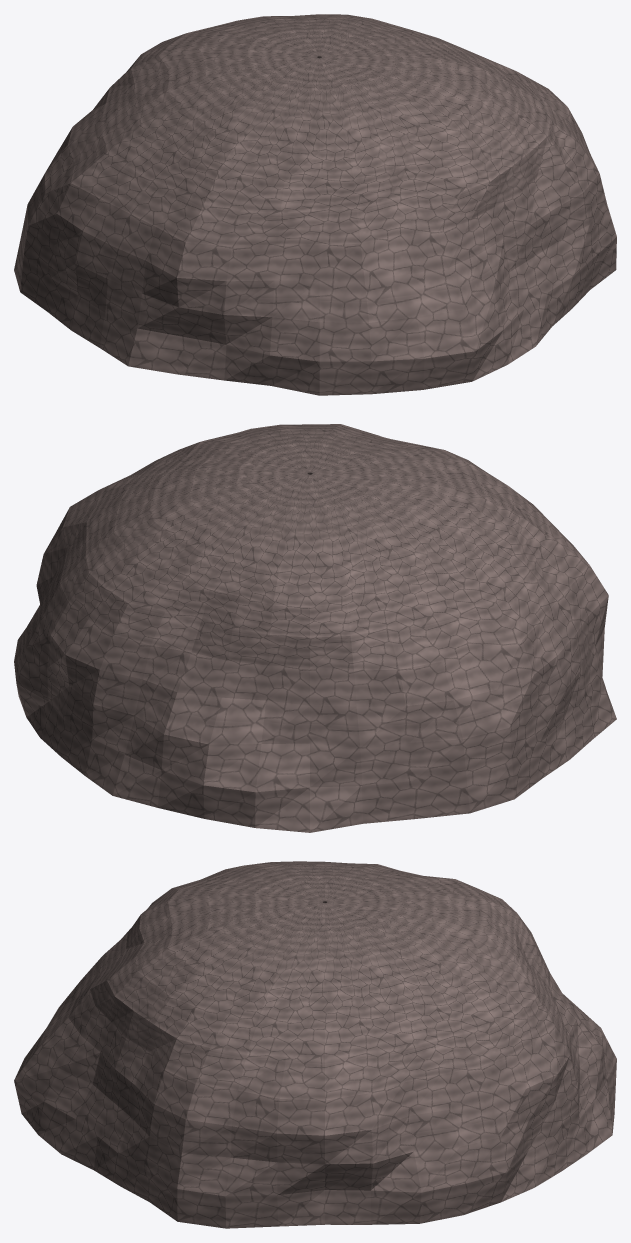
Rendered from Cavern.obj.
3 renders of one model, top to bottom at view 1: azimuth 30°, elevation 25°; view 2: azimuth 150°, elevation 25°; view 3: azimuth 270°, elevation 25°, orthographic. The views are drawn at different scales.
Parts seen in each view (by area): view 1: Cavern; view 2: Cavern; view 3: Cavern.
Part boxes in pixels (box(x1,y1,x2,y2)): Cavern: box(14, 14, 616, 395); Cavern: box(14, 424, 616, 832); Cavern: box(14, 861, 616, 1228).
Size of the model in its own units: 121 by 50 by 129.
Materials: 1 (1 with a texture image).
